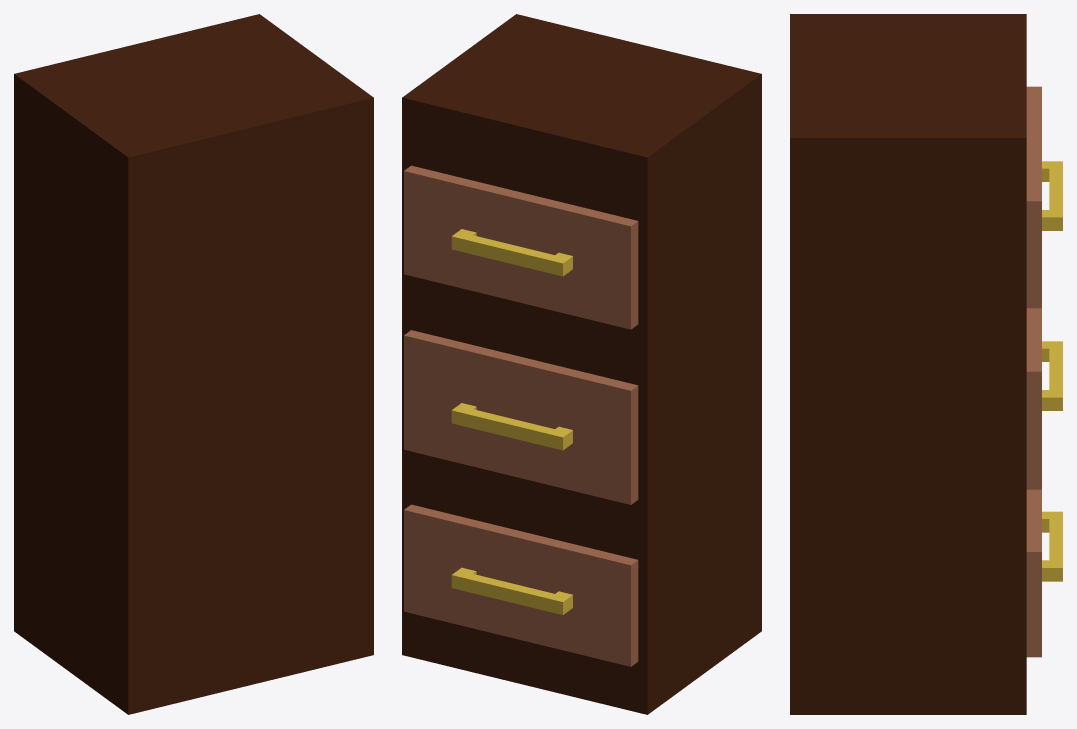
File: Drawer_3D_Asset.fbx
The picture shows the model from 3 angles, left to right: view 1: azimuth 30°, elevation 25°; view 2: azimuth 150°, elevation 25°; view 3: azimuth 270°, elevation 25°; orthographic projection. The views are drawn at different scales.
Visible parts, largest first — view 1: Drawer; view 2: Drawer; view 3: Drawer.
Boxes of the visible parts, x1,y1,x2,y2 form: Drawer: (14, 14, 373, 714); Drawer: (402, 14, 761, 714); Drawer: (790, 14, 1062, 714).
Bounding box in the file's own units: 210 × 455 × 195.
